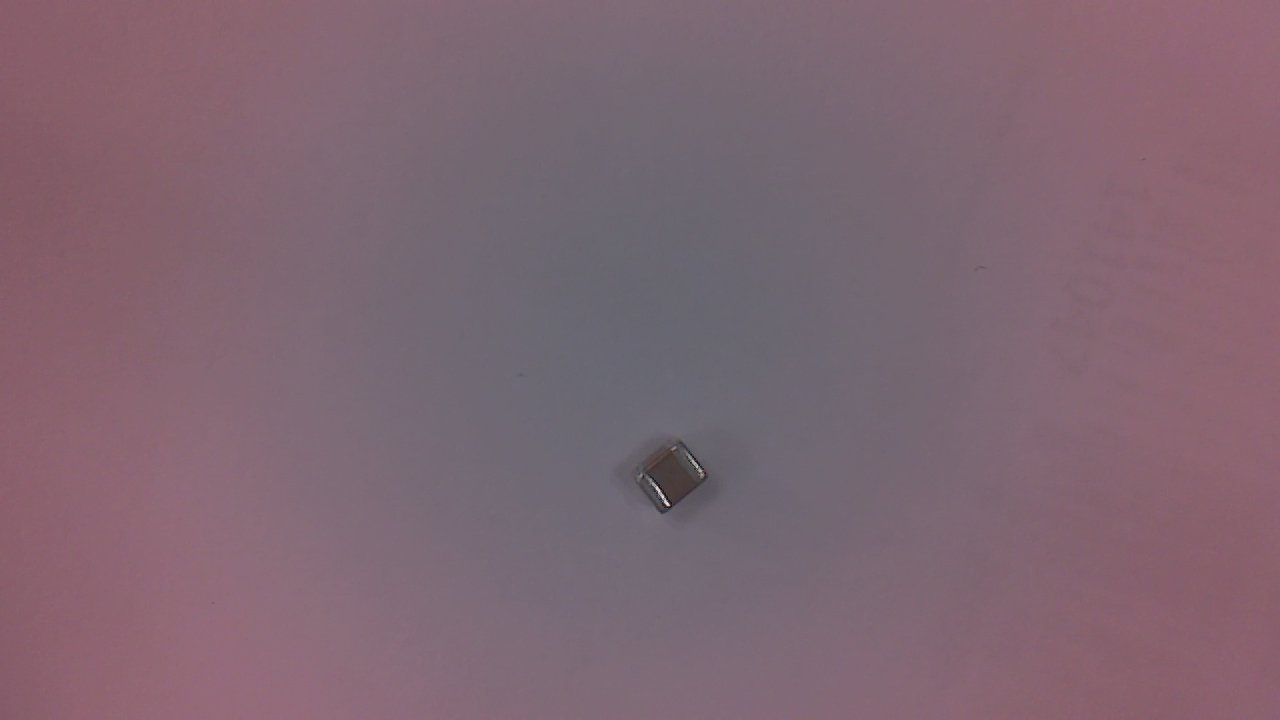Condensator: (638, 445, 711, 516)
